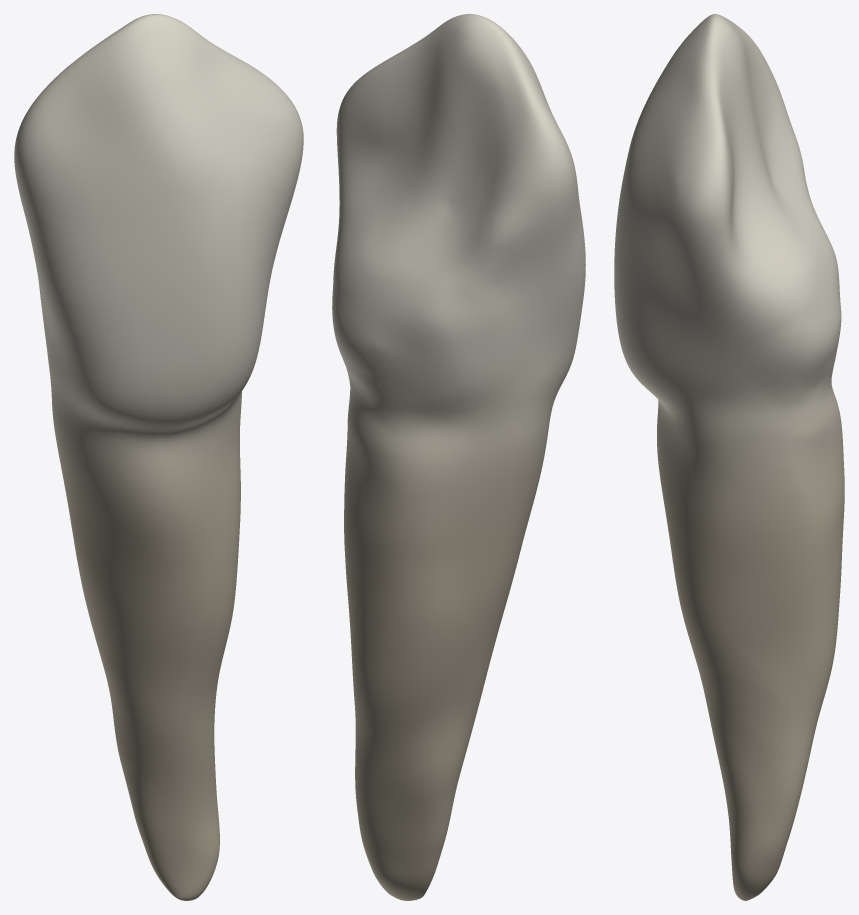
The picture shows the model from 3 angles, left to right: view 1: azimuth 30°, elevation 25°; view 2: azimuth 150°, elevation 25°; view 3: azimuth 270°, elevation 25°; orthographic projection. The views are drawn at different scales.
Parts seen in each view (by area): view 1: Tooth_73_0; view 2: Tooth_73_0; view 3: Tooth_73_0.
Part boxes in pixels (x1=…): Tooth_73_0: x1=14, y1=14, x2=303, y2=900; Tooth_73_0: x1=332, y1=14, x2=585, y2=900; Tooth_73_0: x1=614, y1=14, x2=844, y2=900.
Size of the model in its own units: 0.65 by 2.19 by 0.5354.
